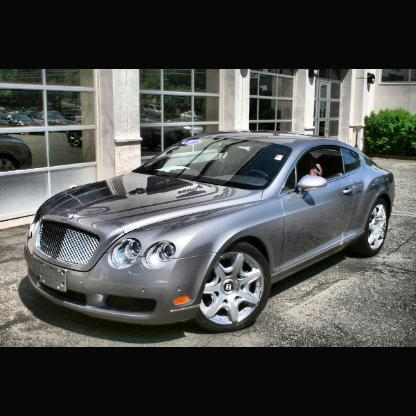Bentley Continental GT Coupe 2007: (26, 131, 395, 334)
